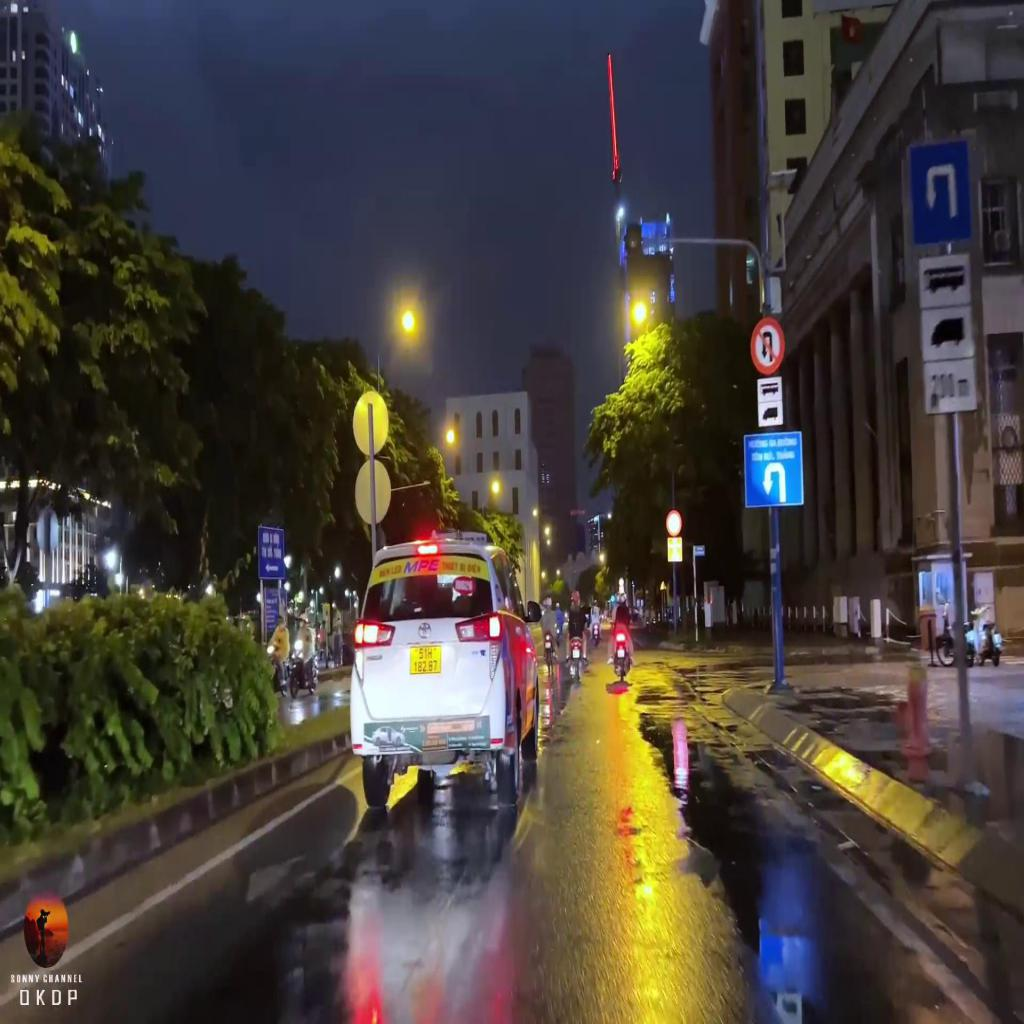cam_quay_dau_xe: (750, 317, 784, 376)
cho_quay_xe: (910, 140, 972, 245)
khac: (744, 434, 803, 508), (921, 306, 974, 362), (924, 356, 976, 412), (918, 256, 972, 308), (757, 376, 781, 402), (758, 401, 782, 427)
